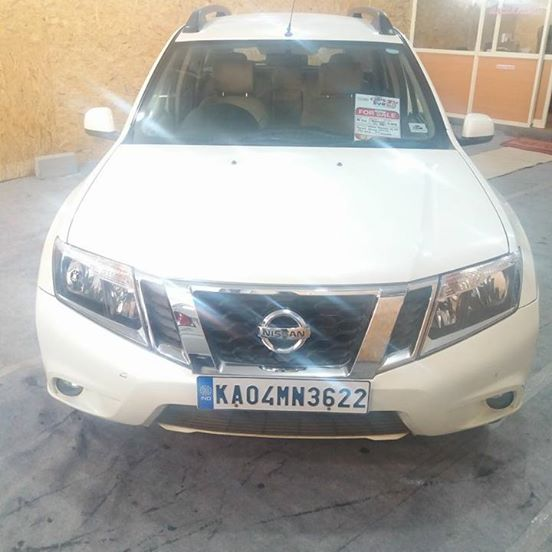number_plate: (195, 375, 375, 420)
